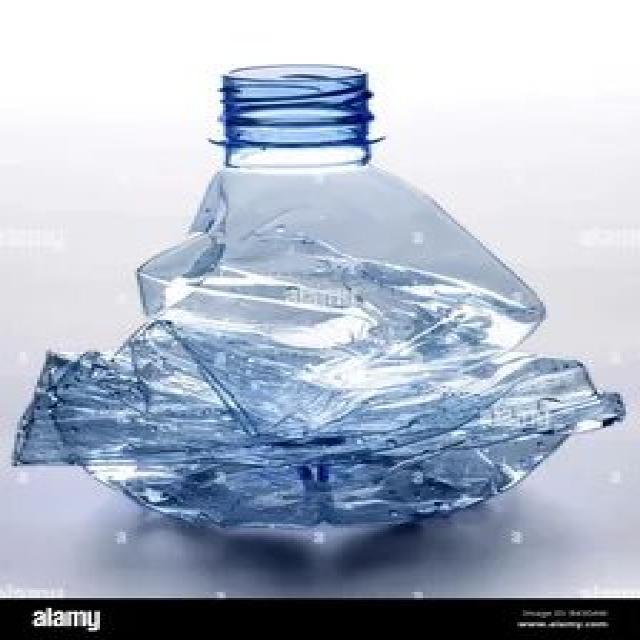blue: (7, 63, 626, 530)
